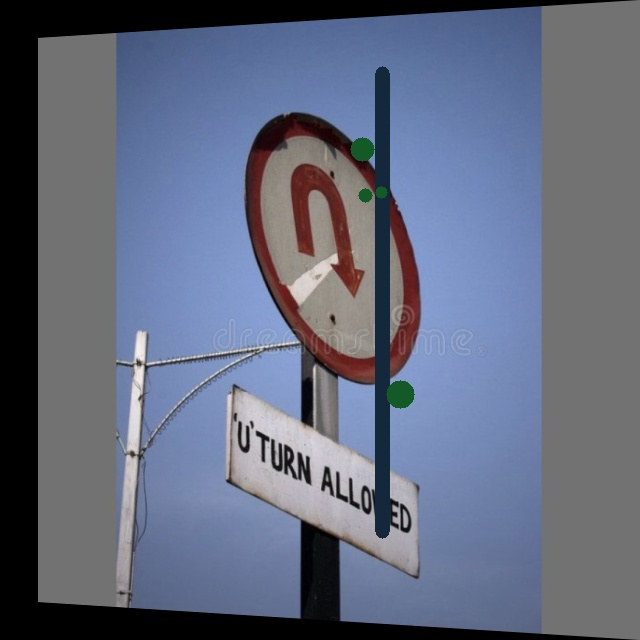U_Turn_Ahead: (247, 92, 442, 387)
